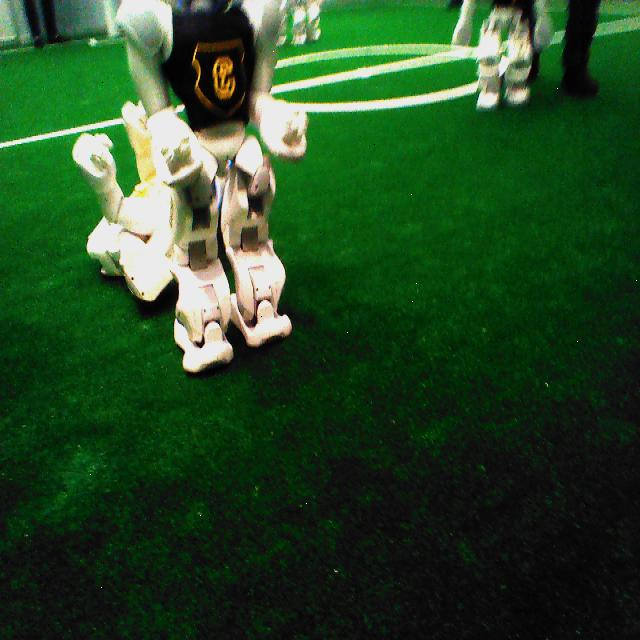goalpost: (104, 1, 121, 38)
